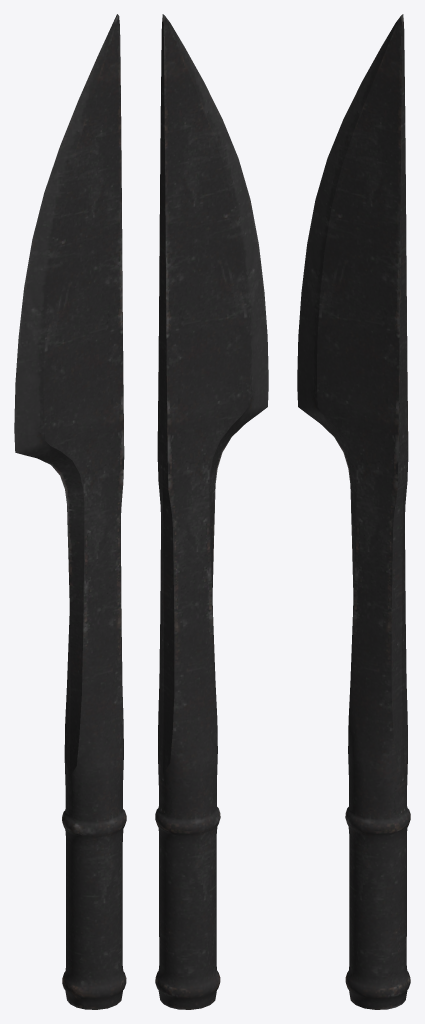
File: wm_isengard_1h_spear_b01_blade.fbx
3 renders of one model, left to right at view 1: azimuth 30°, elevation 25°; view 2: azimuth 210°, elevation 25°; view 3: azimuth 330°, elevation 25°, orthographic.
Visible parts, largest first — view 1: wm_isengard_1h_spear_b01_blade; view 2: wm_isengard_1h_spear_b01_blade; view 3: wm_isengard_1h_spear_b01_blade.
Boxes of the visible parts, x1,y1,x2,y2 form: wm_isengard_1h_spear_b01_blade: [14, 14, 126, 1009]; wm_isengard_1h_spear_b01_blade: [155, 14, 268, 1009]; wm_isengard_1h_spear_b01_blade: [297, 14, 410, 1009].
Bounding box in the file's own units: 0.0934 × 0.0476 × 0.8073.
1 material, 1 textured.
